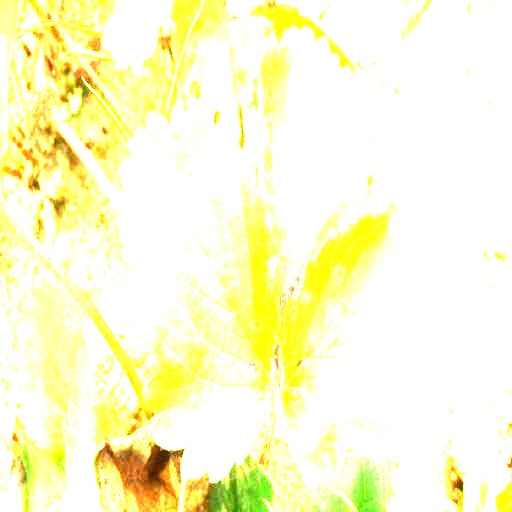Leaf Spot: (117, 107, 278, 484), (278, 177, 463, 490), (256, 25, 372, 340)
